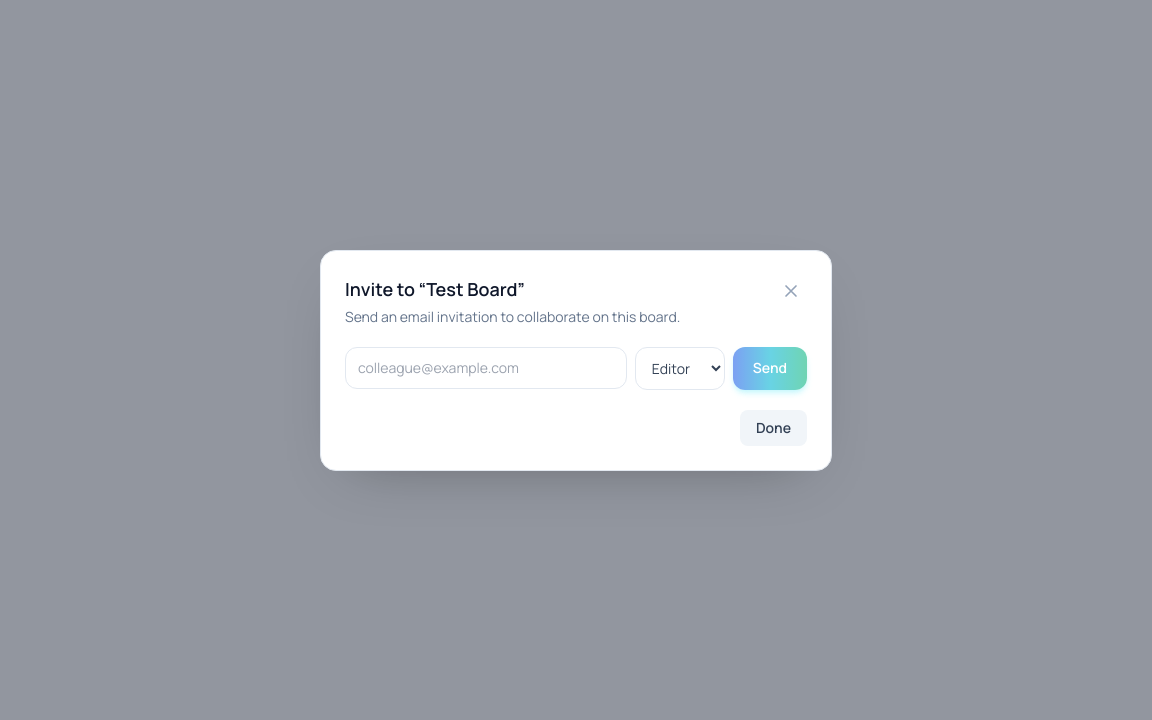
Scenario: InviteModal › enables send button with valid email
In the field with placeholder "colleague@example.com": (486, 368) [345,346,627,388], type "valid@email.com"
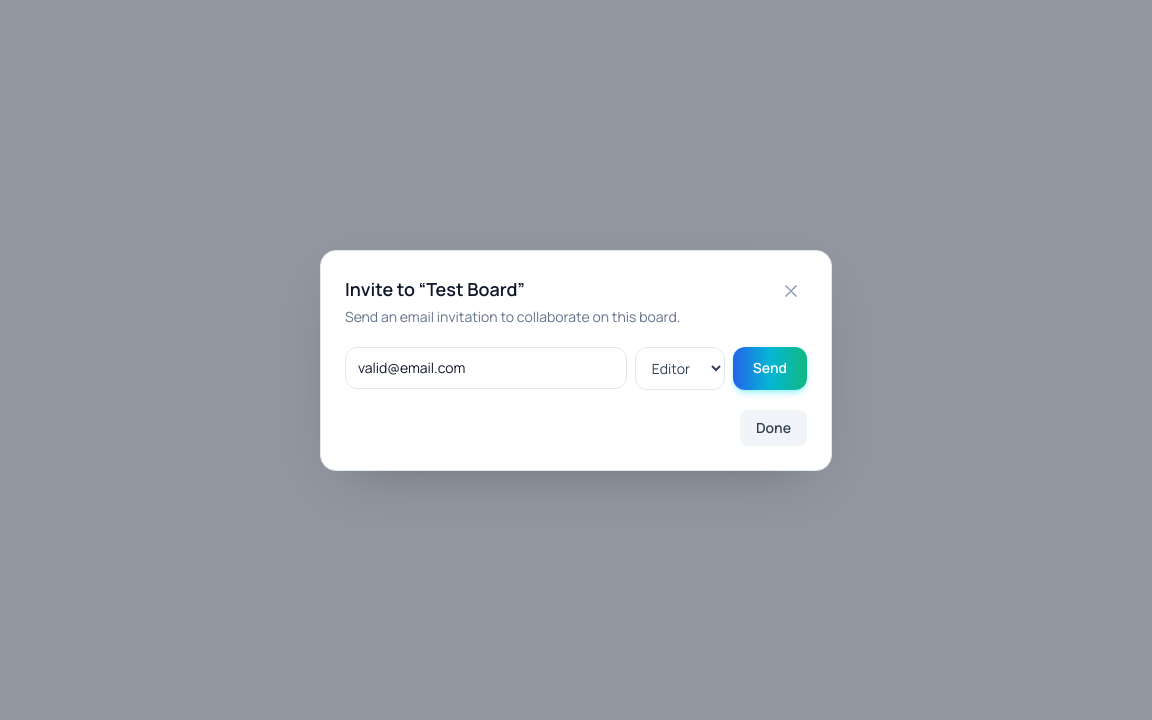
Result: the button "Send" is enabled at [733,346,807,390]
